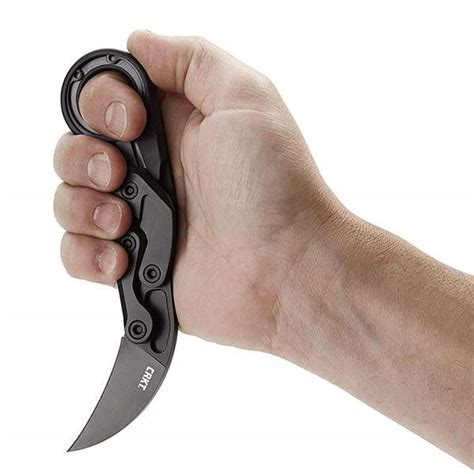knife: (60, 44, 180, 458)
